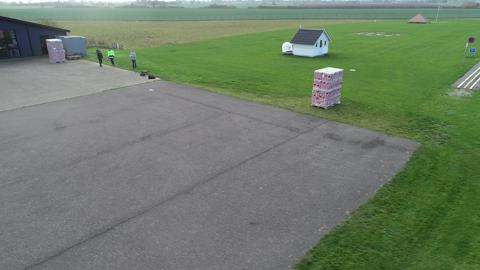RockwoolPallet: (45, 38, 67, 64)
